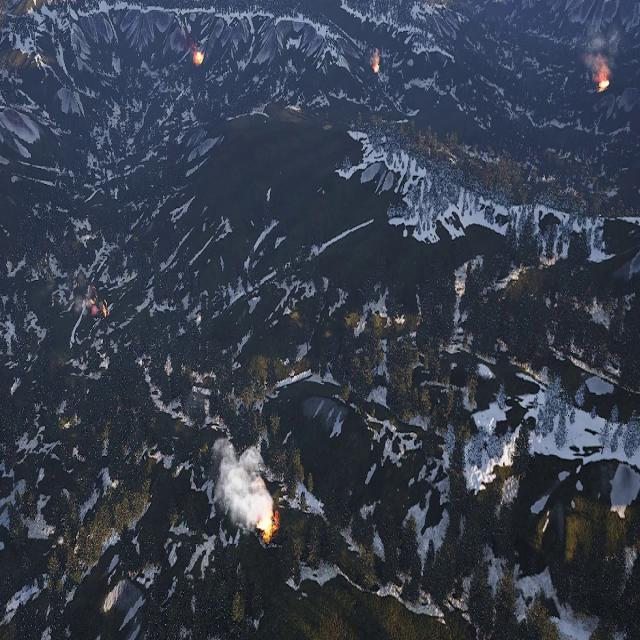fire: (90, 284, 108, 321), (259, 512, 278, 543), (598, 72, 610, 93), (373, 48, 380, 74), (193, 52, 203, 65)
smoke: (209, 440, 273, 532), (582, 25, 618, 75), (72, 276, 94, 324), (175, 28, 197, 56)
